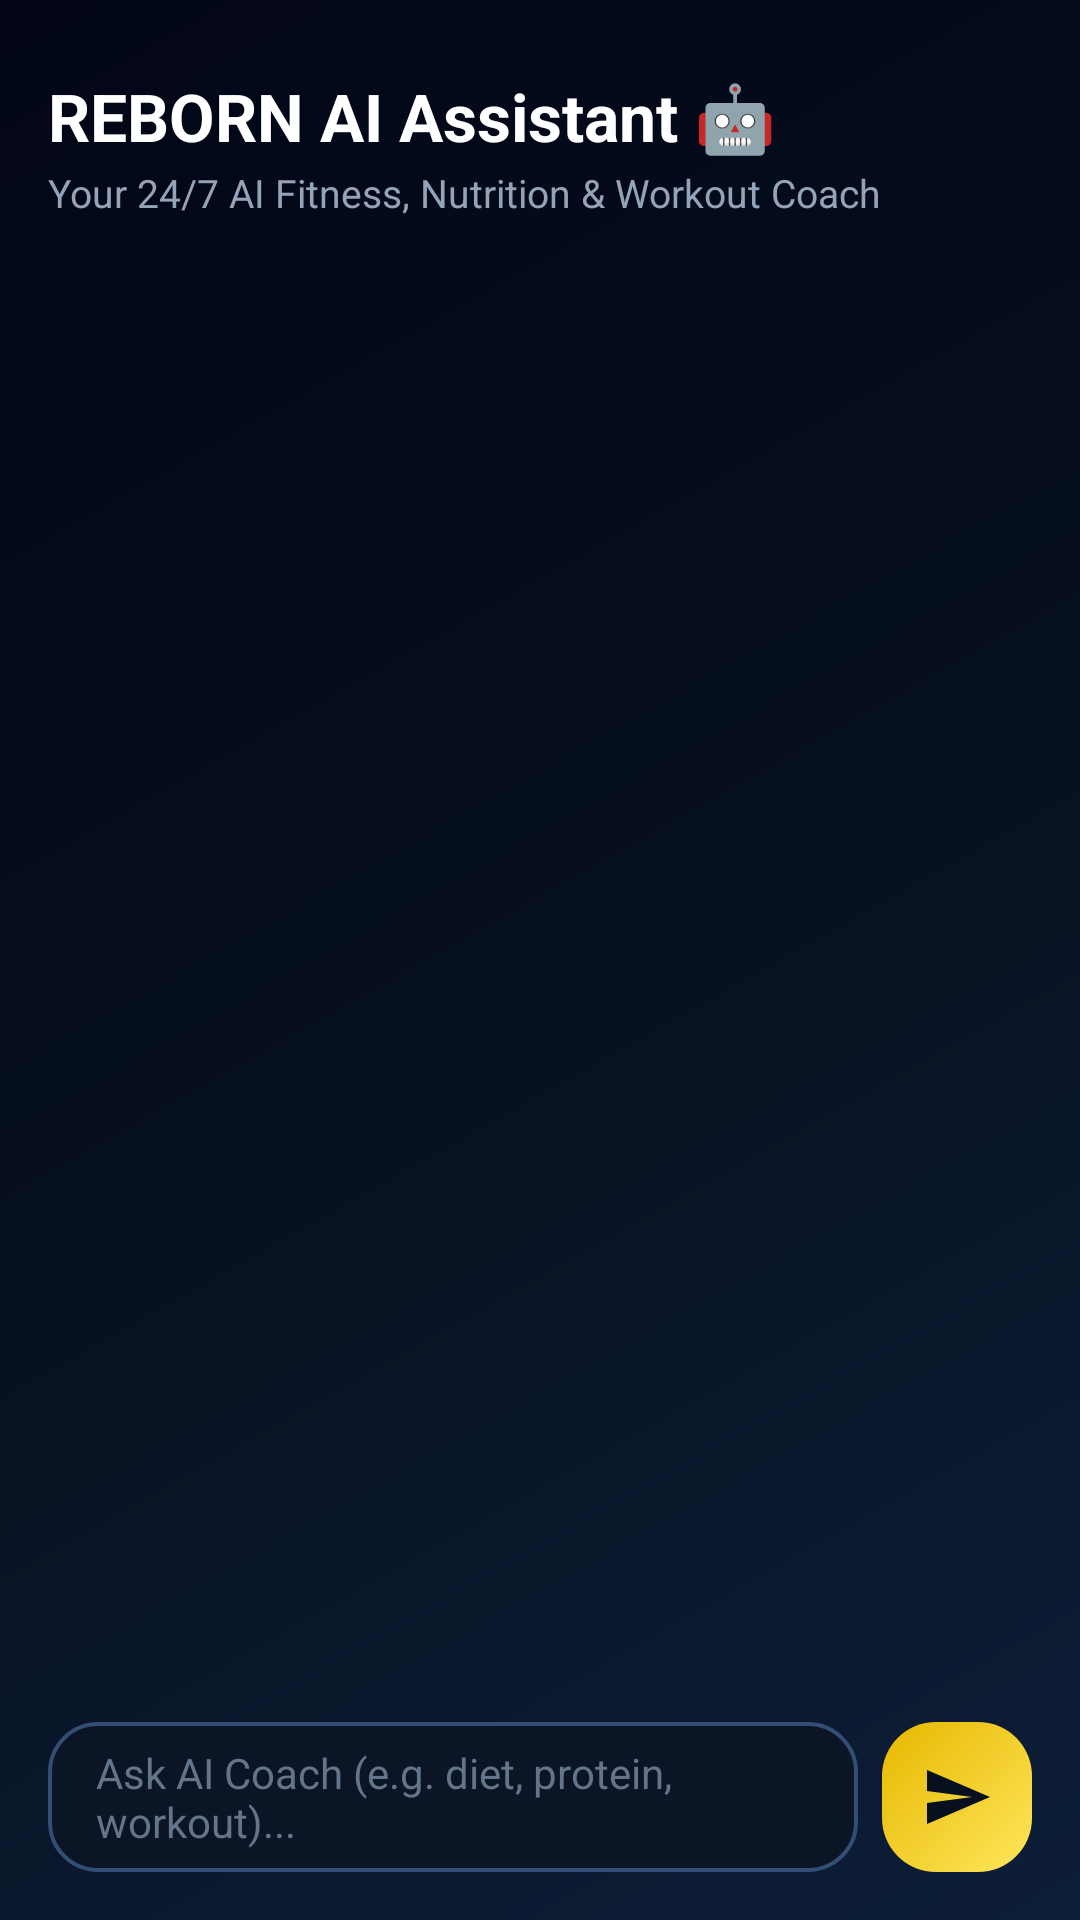

Screen size 1080 x 1920. Icon name, then its center in pixels as point (x, y):
Send Message: point (957, 1797)
